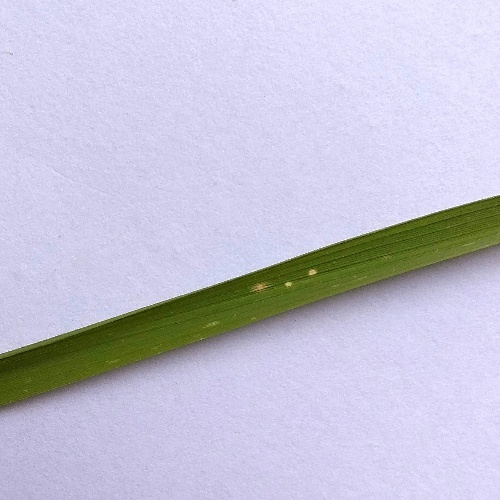Busuk Leher: (245, 269, 294, 299), (296, 253, 325, 281)
